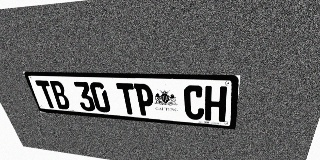0: (88, 82, 111, 113)
3: (73, 81, 96, 112)
B: (48, 81, 72, 110)
C: (183, 85, 204, 120)
H: (205, 86, 227, 122)
P: (134, 83, 155, 116)
T: (116, 83, 138, 115), (35, 80, 58, 109)
